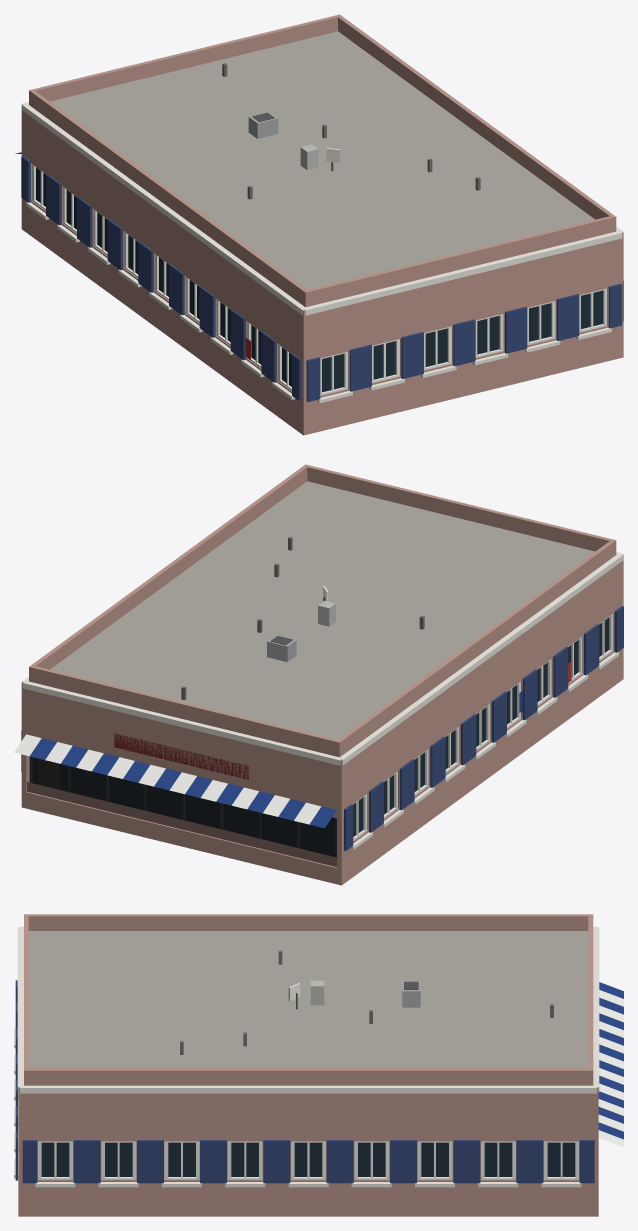
The picture shows the model from 3 angles, top to bottom: view 1: azimuth 30°, elevation 25°; view 2: azimuth 150°, elevation 25°; view 3: azimuth 270°, elevation 25°; orthographic projection. The views are drawn at different scales.
Parts seen in each view (by area): view 1: b674_opaque, b674_glass; view 2: b674_opaque, b674_glass; view 3: b674_opaque, b674_glass.
Part boxes in pixels (x1,y1,x2,y2): b674_opaque: (15, 14, 623, 435); b674_glass: (36, 167, 602, 392); b674_opaque: (14, 464, 623, 885); b674_glass: (32, 617, 609, 856); b674_opaque: (14, 914, 623, 1216); b674_glass: (41, 1142, 575, 1176).
Bounding box in the file's own units: 6328 × 2740 × 9921.
